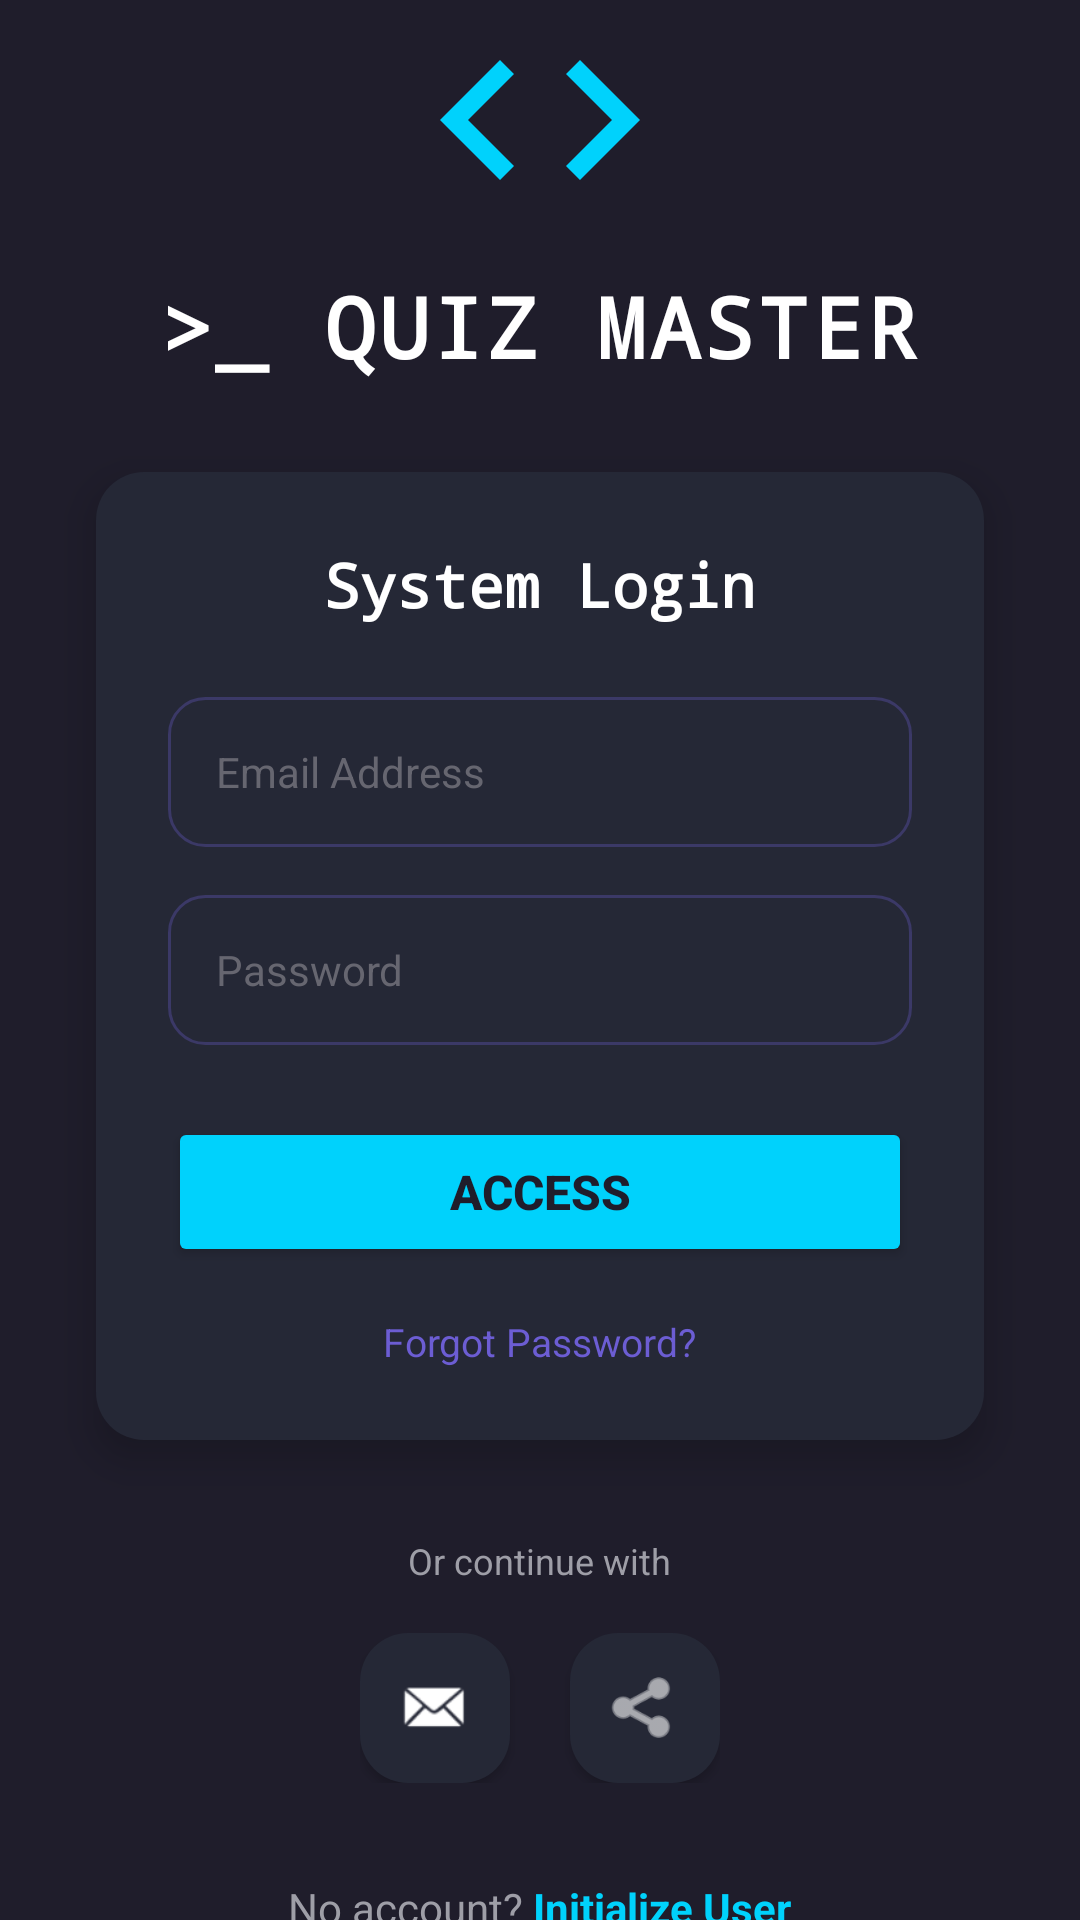

Named icons in this screenshot (1080×1920) and their bounding boxes, (x1,y1,x2,y2):
code: (440,60,640,180)
share: (570,1633,720,1783)
sym action email: (403,1687,465,1727)
